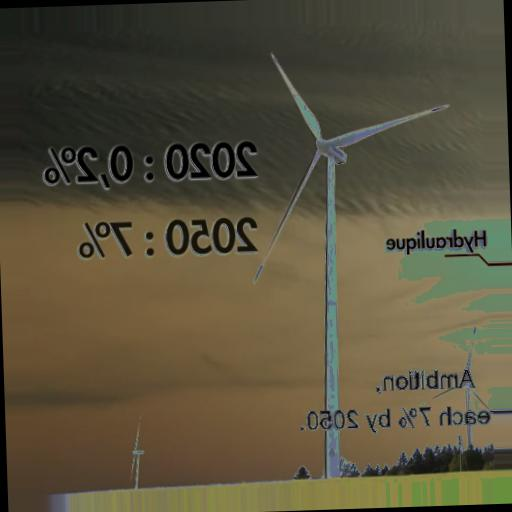wind turbine: (252, 52, 452, 475)
